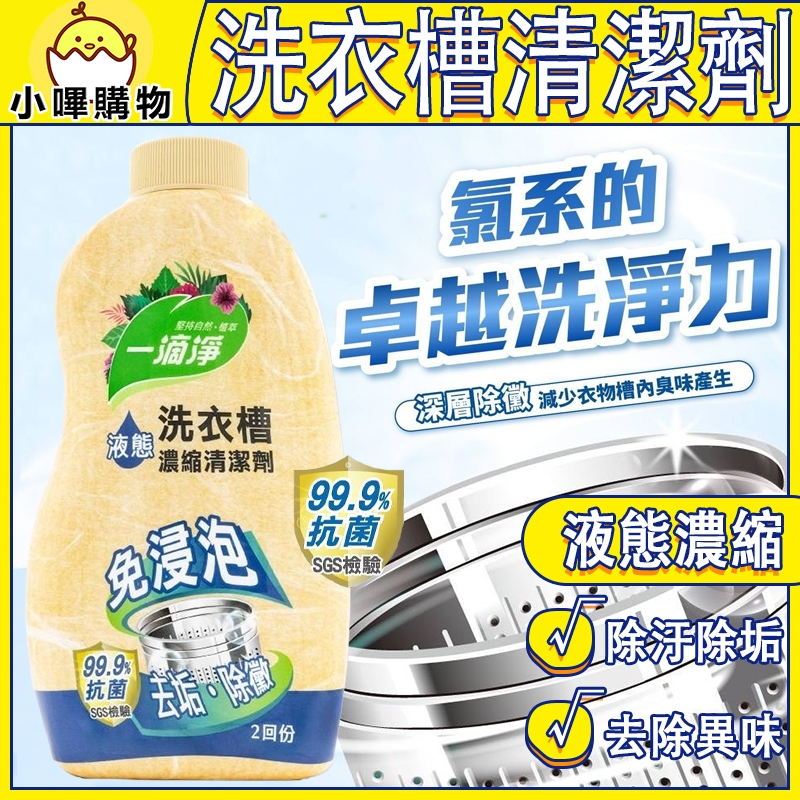cleaner: (42, 139, 348, 773)
